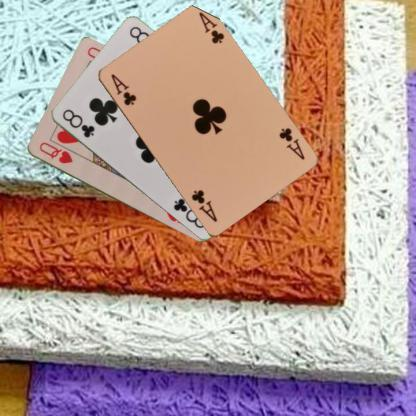8c: (59, 107, 96, 140)
Ac: (108, 71, 138, 107), (276, 125, 306, 161)
Qh: (36, 139, 74, 165)
